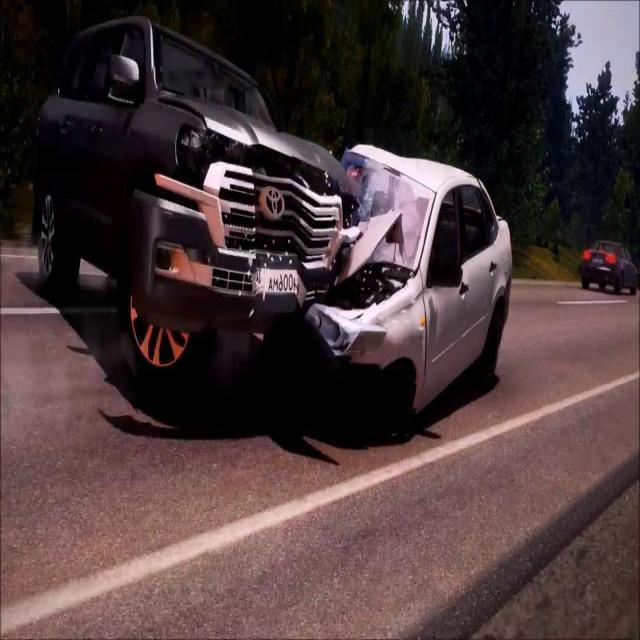accident: (31, 6, 515, 443)
